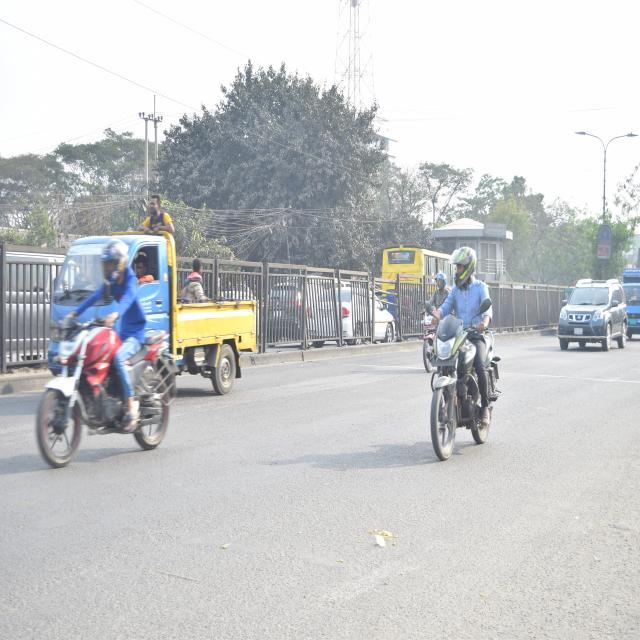car: (556, 265, 626, 363)
motorbike: (32, 300, 180, 470), (422, 292, 503, 478), (410, 289, 440, 371)
pickup-van: (40, 218, 270, 375), (619, 266, 640, 342)
